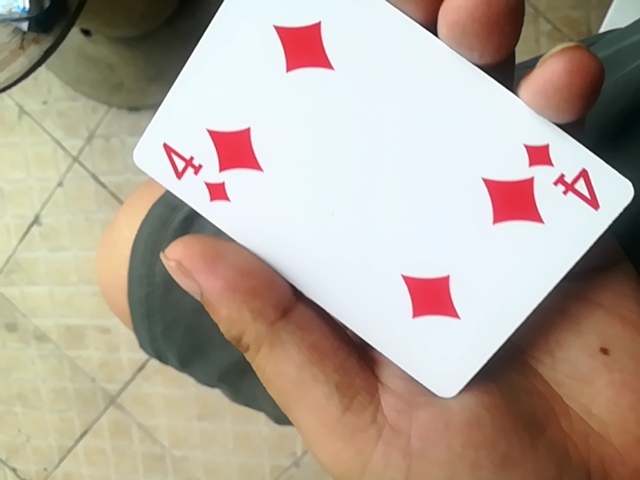fk 4: (131, 4, 640, 405)
